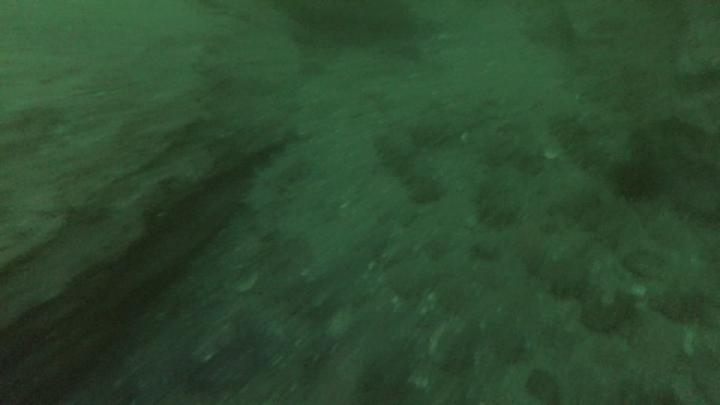echinus: (619, 153, 664, 207)
holothurian: (375, 130, 436, 209), (549, 106, 609, 178), (473, 176, 514, 229), (268, 151, 313, 196), (543, 265, 595, 298)
